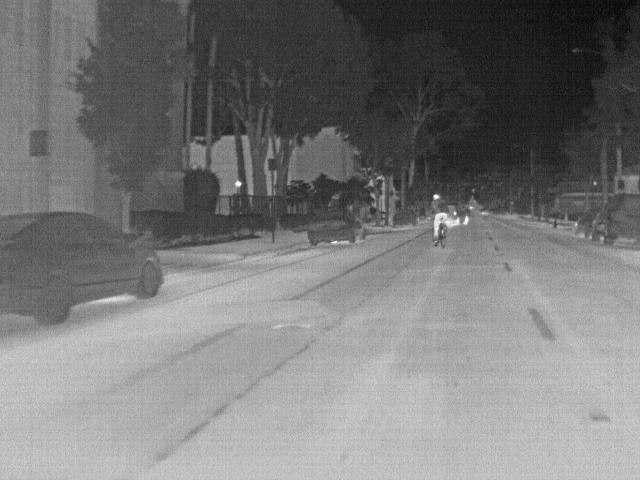car: (1, 210, 162, 326), (591, 192, 639, 247), (307, 209, 366, 247), (572, 208, 600, 240), (447, 201, 471, 227), (394, 209, 417, 227)
person: (431, 192, 449, 236)
